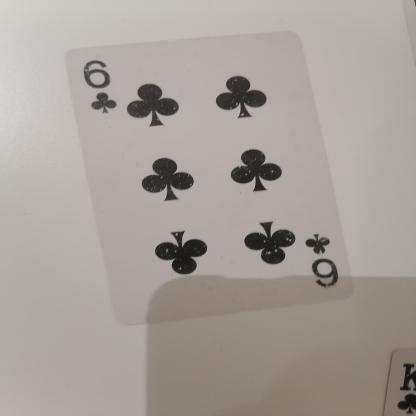6C: (300, 216, 351, 297), (75, 56, 134, 124)
